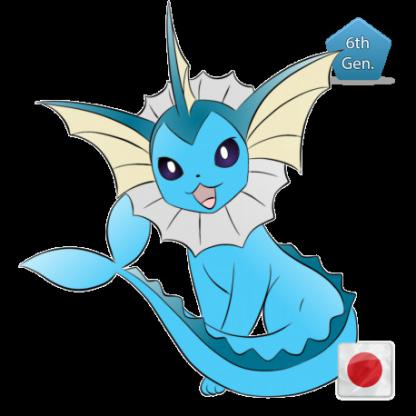Vaporeon: (37, 1, 362, 402)
